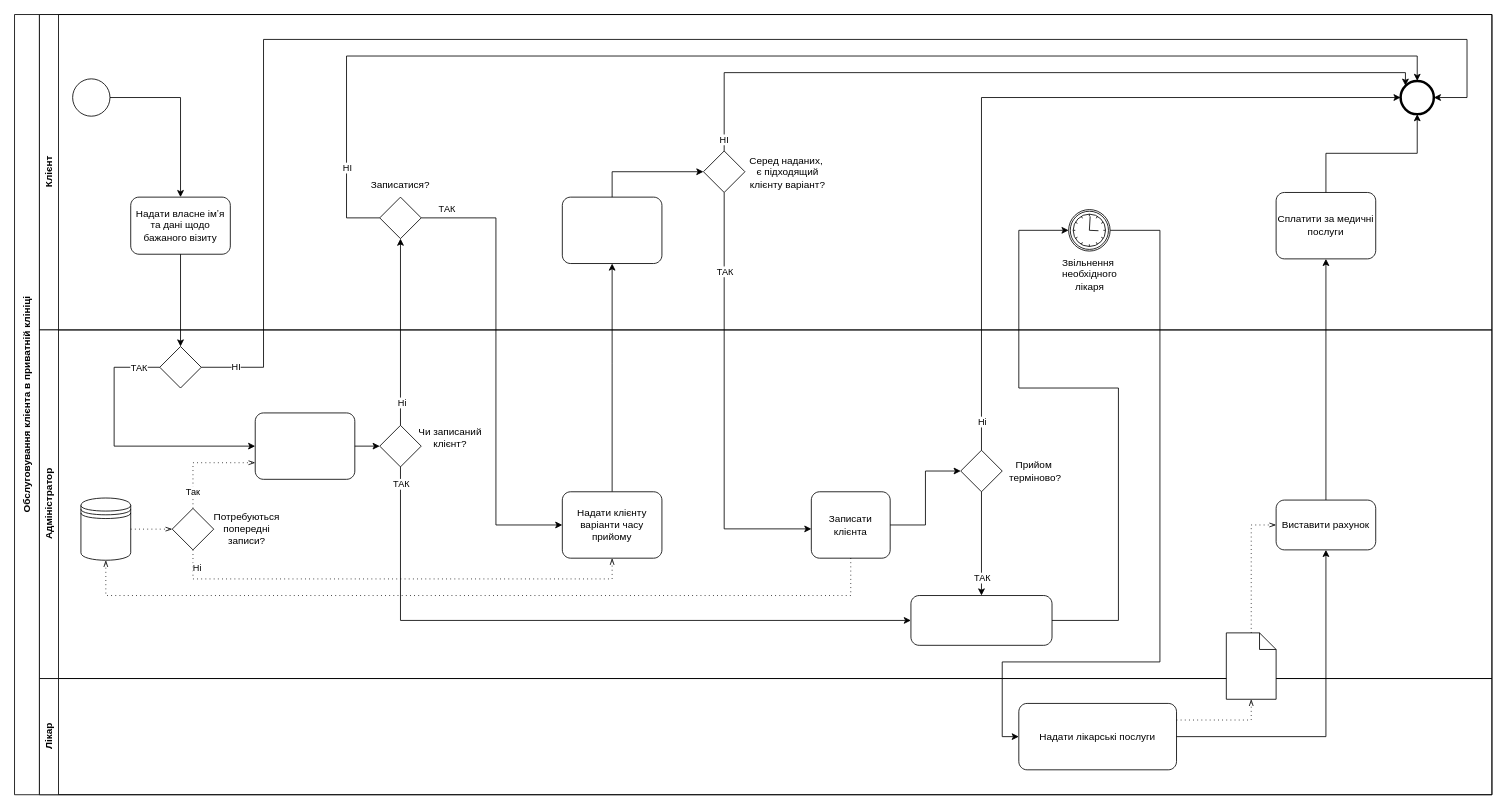
Some shapes in this 1506 by 809 pixel diagram are drawn without their labels. Each missing label, with the box of its shape:
Направити клієнта до потрібного кабінету: (910, 595, 1052, 645)
Обрати підходящий варіант: (561, 196, 662, 264)
Отримати дані про попередні записи клієнта: (254, 412, 355, 479)
Поточні записи: (80, 497, 131, 560)
Спеціаліст, що цікавить клієнта наявний у клініці?: (159, 346, 201, 388)
список наданих послуг: (1225, 632, 1276, 699)
